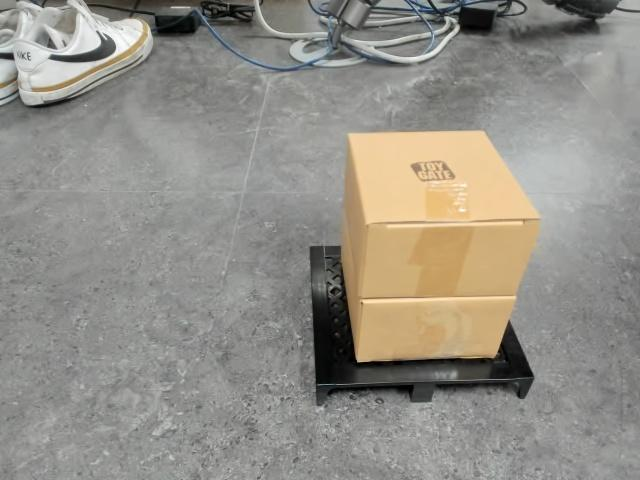box: (309, 129, 541, 408)
